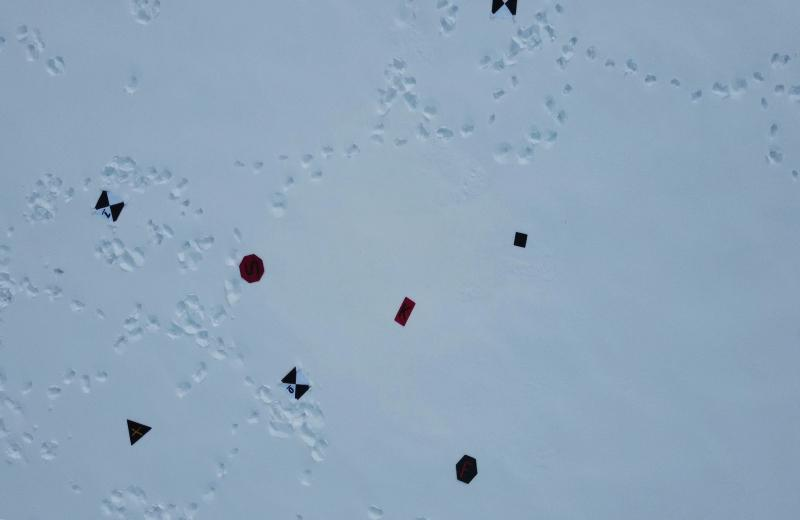Hexagon: (453, 452, 481, 488)
Octagon: (234, 249, 268, 286)
Rectangle: (390, 293, 416, 331)
Square: (508, 229, 531, 255)
Triangle: (123, 416, 156, 451)
